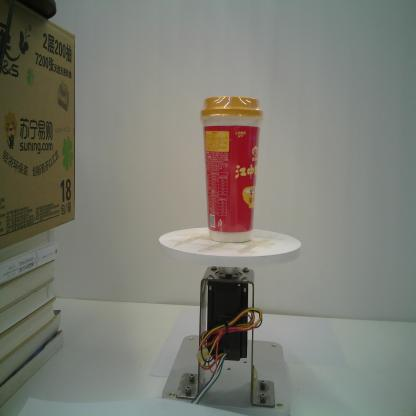Instant Drink: (200, 96, 263, 243)
